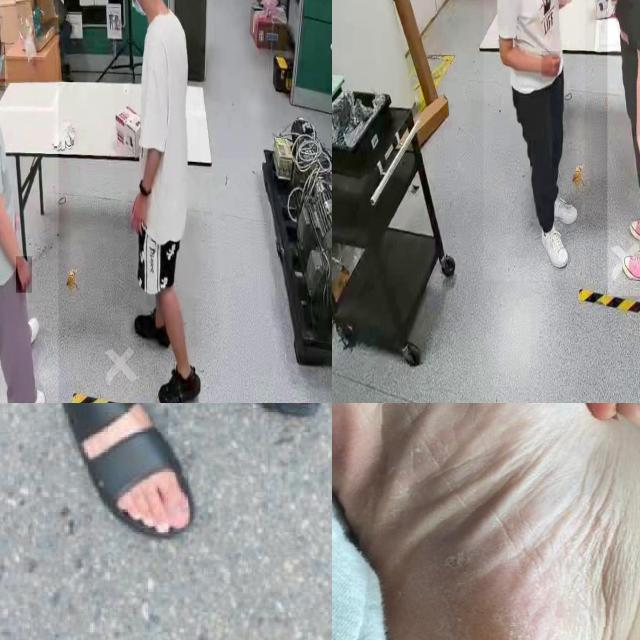Barefoots: (332, 403, 640, 640)
Sandals: (37, 403, 205, 548)
hand_noglove: (128, 190, 148, 235), (16, 256, 32, 294), (541, 51, 561, 77), (634, 136, 640, 175)
person: (112, 0, 201, 403), (483, 0, 585, 281), (0, 0, 58, 403), (607, 0, 640, 297)
shoes: (157, 361, 205, 403), (538, 220, 572, 274), (133, 304, 170, 352), (540, 189, 578, 228), (621, 250, 640, 284), (625, 217, 640, 246)
